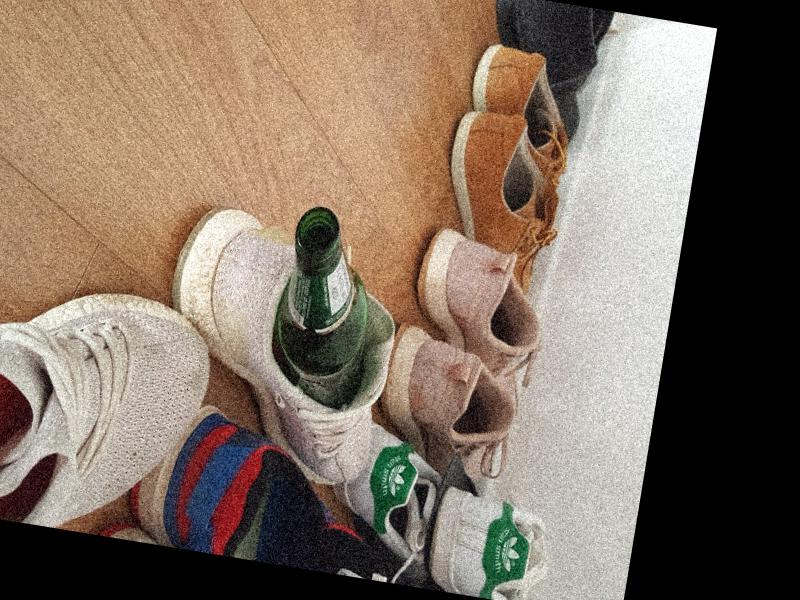Beer: (267, 202, 388, 410)
